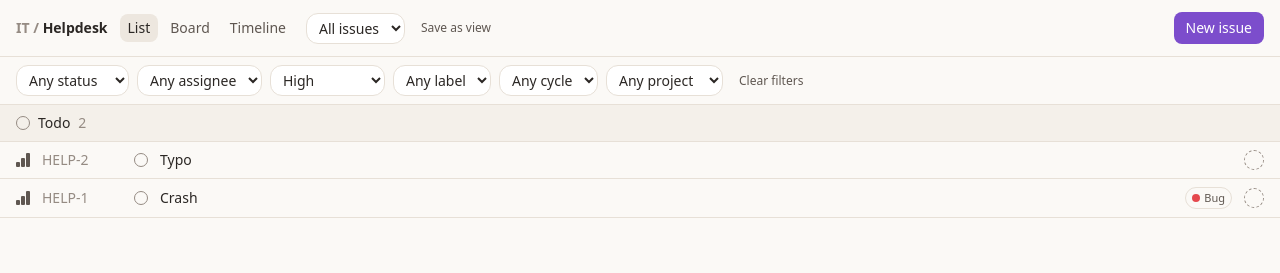
Test case: TeamIssuesPage › filters by label and priority and keeps filters in the URL
Expected: the text "Crash" is shown, [160, 188, 198, 207]
Expected: the text "Typo" is shown, [160, 150, 192, 169]
Select "Bug" in the dropdown named "Labels": (442,80) [393, 65, 491, 96]
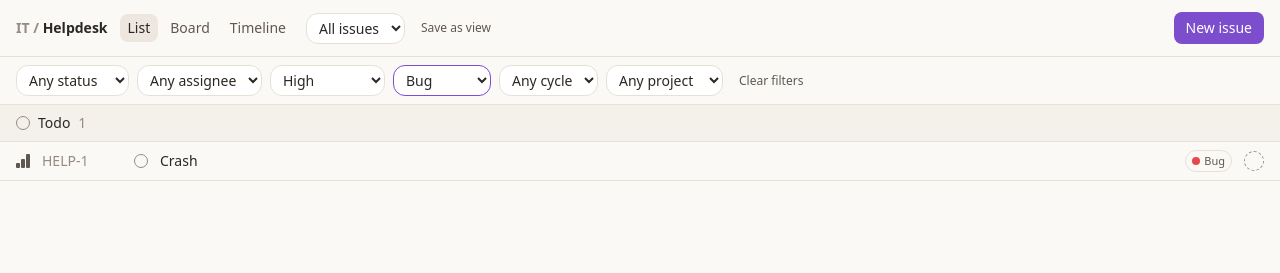
Expected: the link "Typo" is gone
Click the button "Clear filters": (771,80) [731, 68, 811, 92]
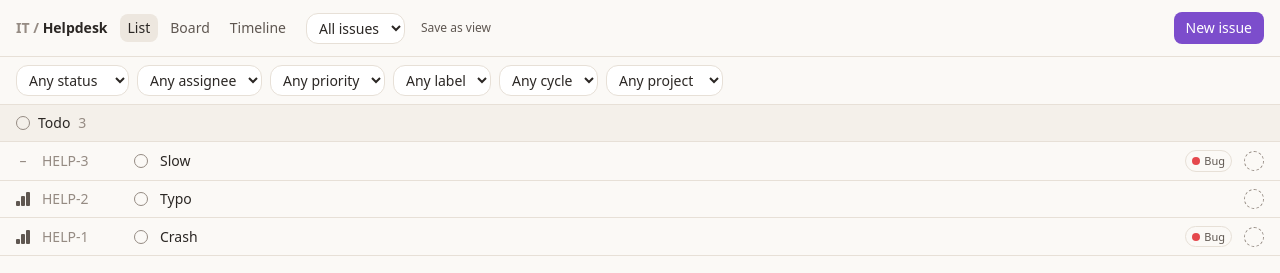
Expected: the text "Slow" is shown, [160, 151, 190, 170]
